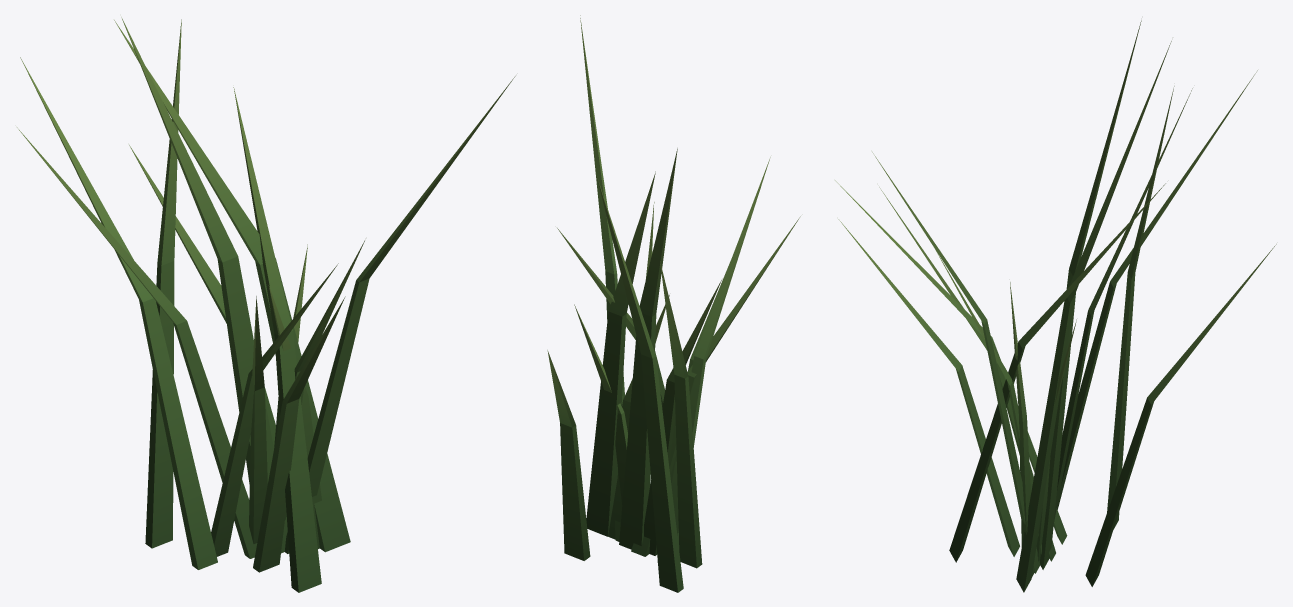
File: SM_GrassClump.fbx
3 renders of one model, left to right at view 1: azimuth 30°, elevation 25°; view 2: azimuth 150°, elevation 25°; view 3: azimuth 270°, elevation 25°, orthographic. The views are drawn at different scales.
Parts seen in each view (by area): view 1: SM_GrassClump; view 2: SM_GrassClump; view 3: SM_GrassClump.
Part boxes in pixels (left/top/right/bottom): SM_GrassClump: left=17, top=17, right=515, bottom=592; SM_GrassClump: left=547, top=15, right=800, bottom=592; SM_GrassClump: left=835, top=20, right=1276, bottom=592.
Size of the model in its own units: 23.62 by 35.39 by 28.7.
